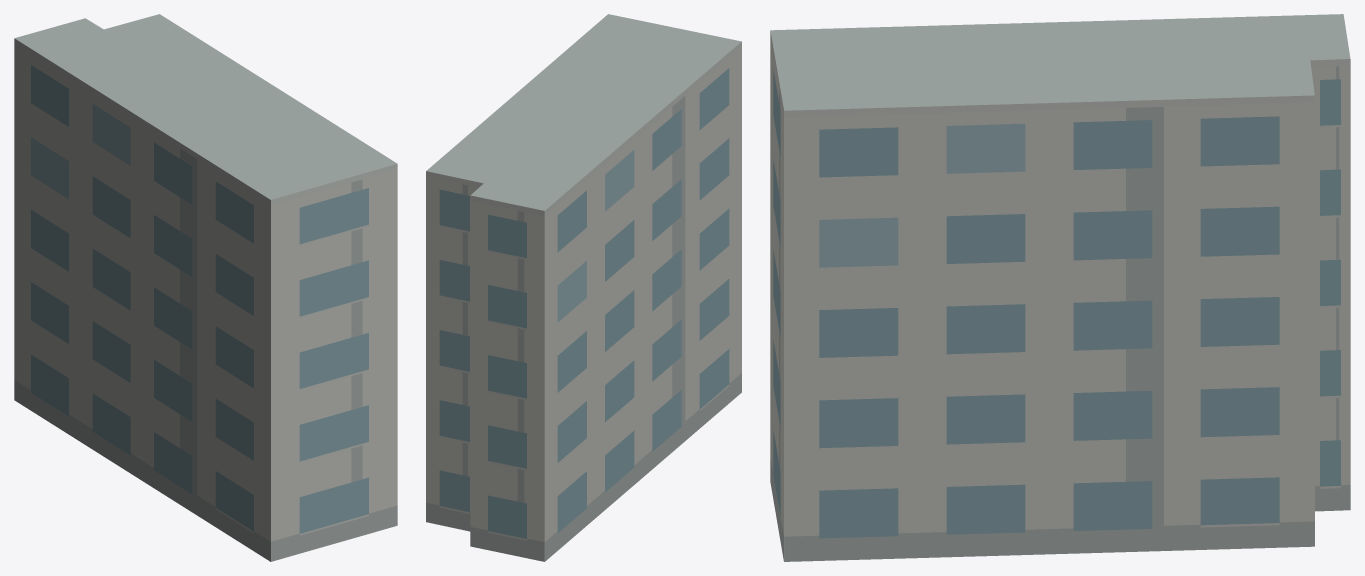
The model's file is survey-upis-32916346.glb.
3 renders of one model, left to right at view 1: azimuth 30°, elevation 25°; view 2: azimuth 150°, elevation 25°; view 3: azimuth 270°, elevation 25°, orthographic. The views are drawn at different scales.
Visible parts, largest first — view 1: survey-upis-32916346.tmp; view 2: survey-upis-32916346.tmp; view 3: survey-upis-32916346.tmp.
Part boxes in pixels (x1,y1,x2,y2): survey-upis-32916346.tmp: [14, 14, 397, 561]; survey-upis-32916346.tmp: [426, 14, 741, 561]; survey-upis-32916346.tmp: [770, 14, 1350, 561].
Bounding box in the file's own units: 7.18 × 15.6 × 18.19.
